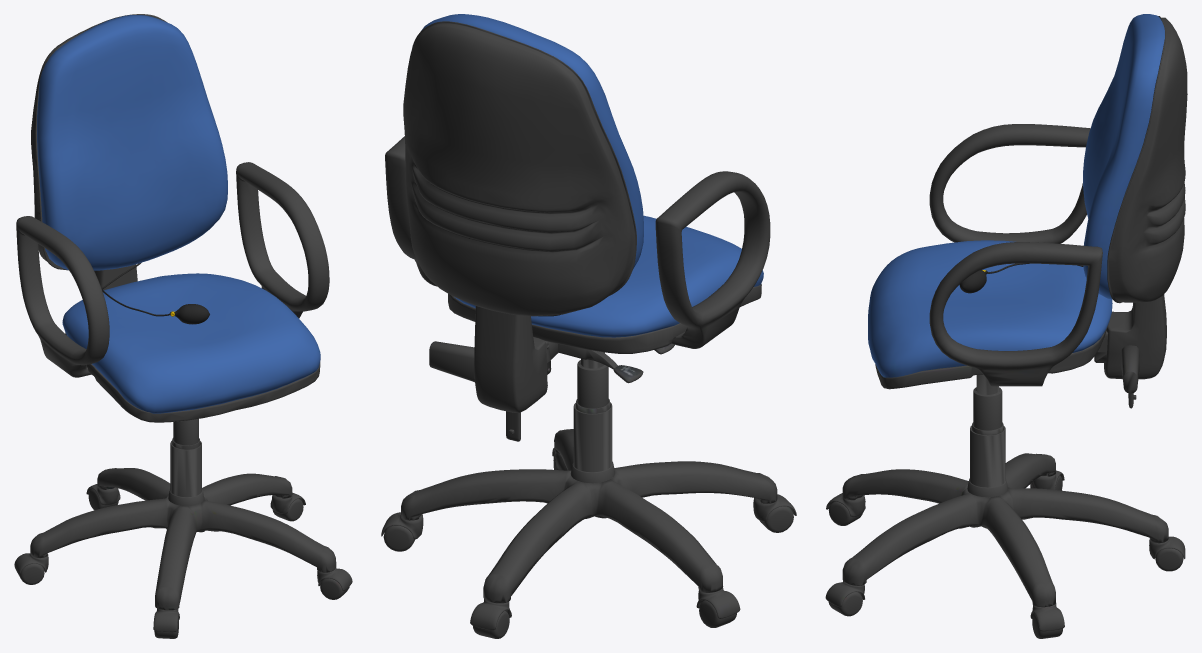
Rendered from B06WVPB4TM.glb.
3 renders of one model, left to right at view 1: azimuth 30°, elevation 25°; view 2: azimuth 150°, elevation 25°; view 3: azimuth 270°, elevation 25°, orthographic. The views are drawn at different scales.
Visible parts, largest first — view 1: B06WVPB4TM; view 2: B06WVPB4TM; view 3: B06WVPB4TM.
Part boxes in pixels (<box>): B06WVPB4TM: <box>14,14,352,638</box>; B06WVPB4TM: <box>381,14,796,638</box>; B06WVPB4TM: <box>825,14,1187,638</box>.
Size of the model in its own units: 0.552 by 0.9046 by 0.5489.
Materials: 1 (1 with a texture image).
